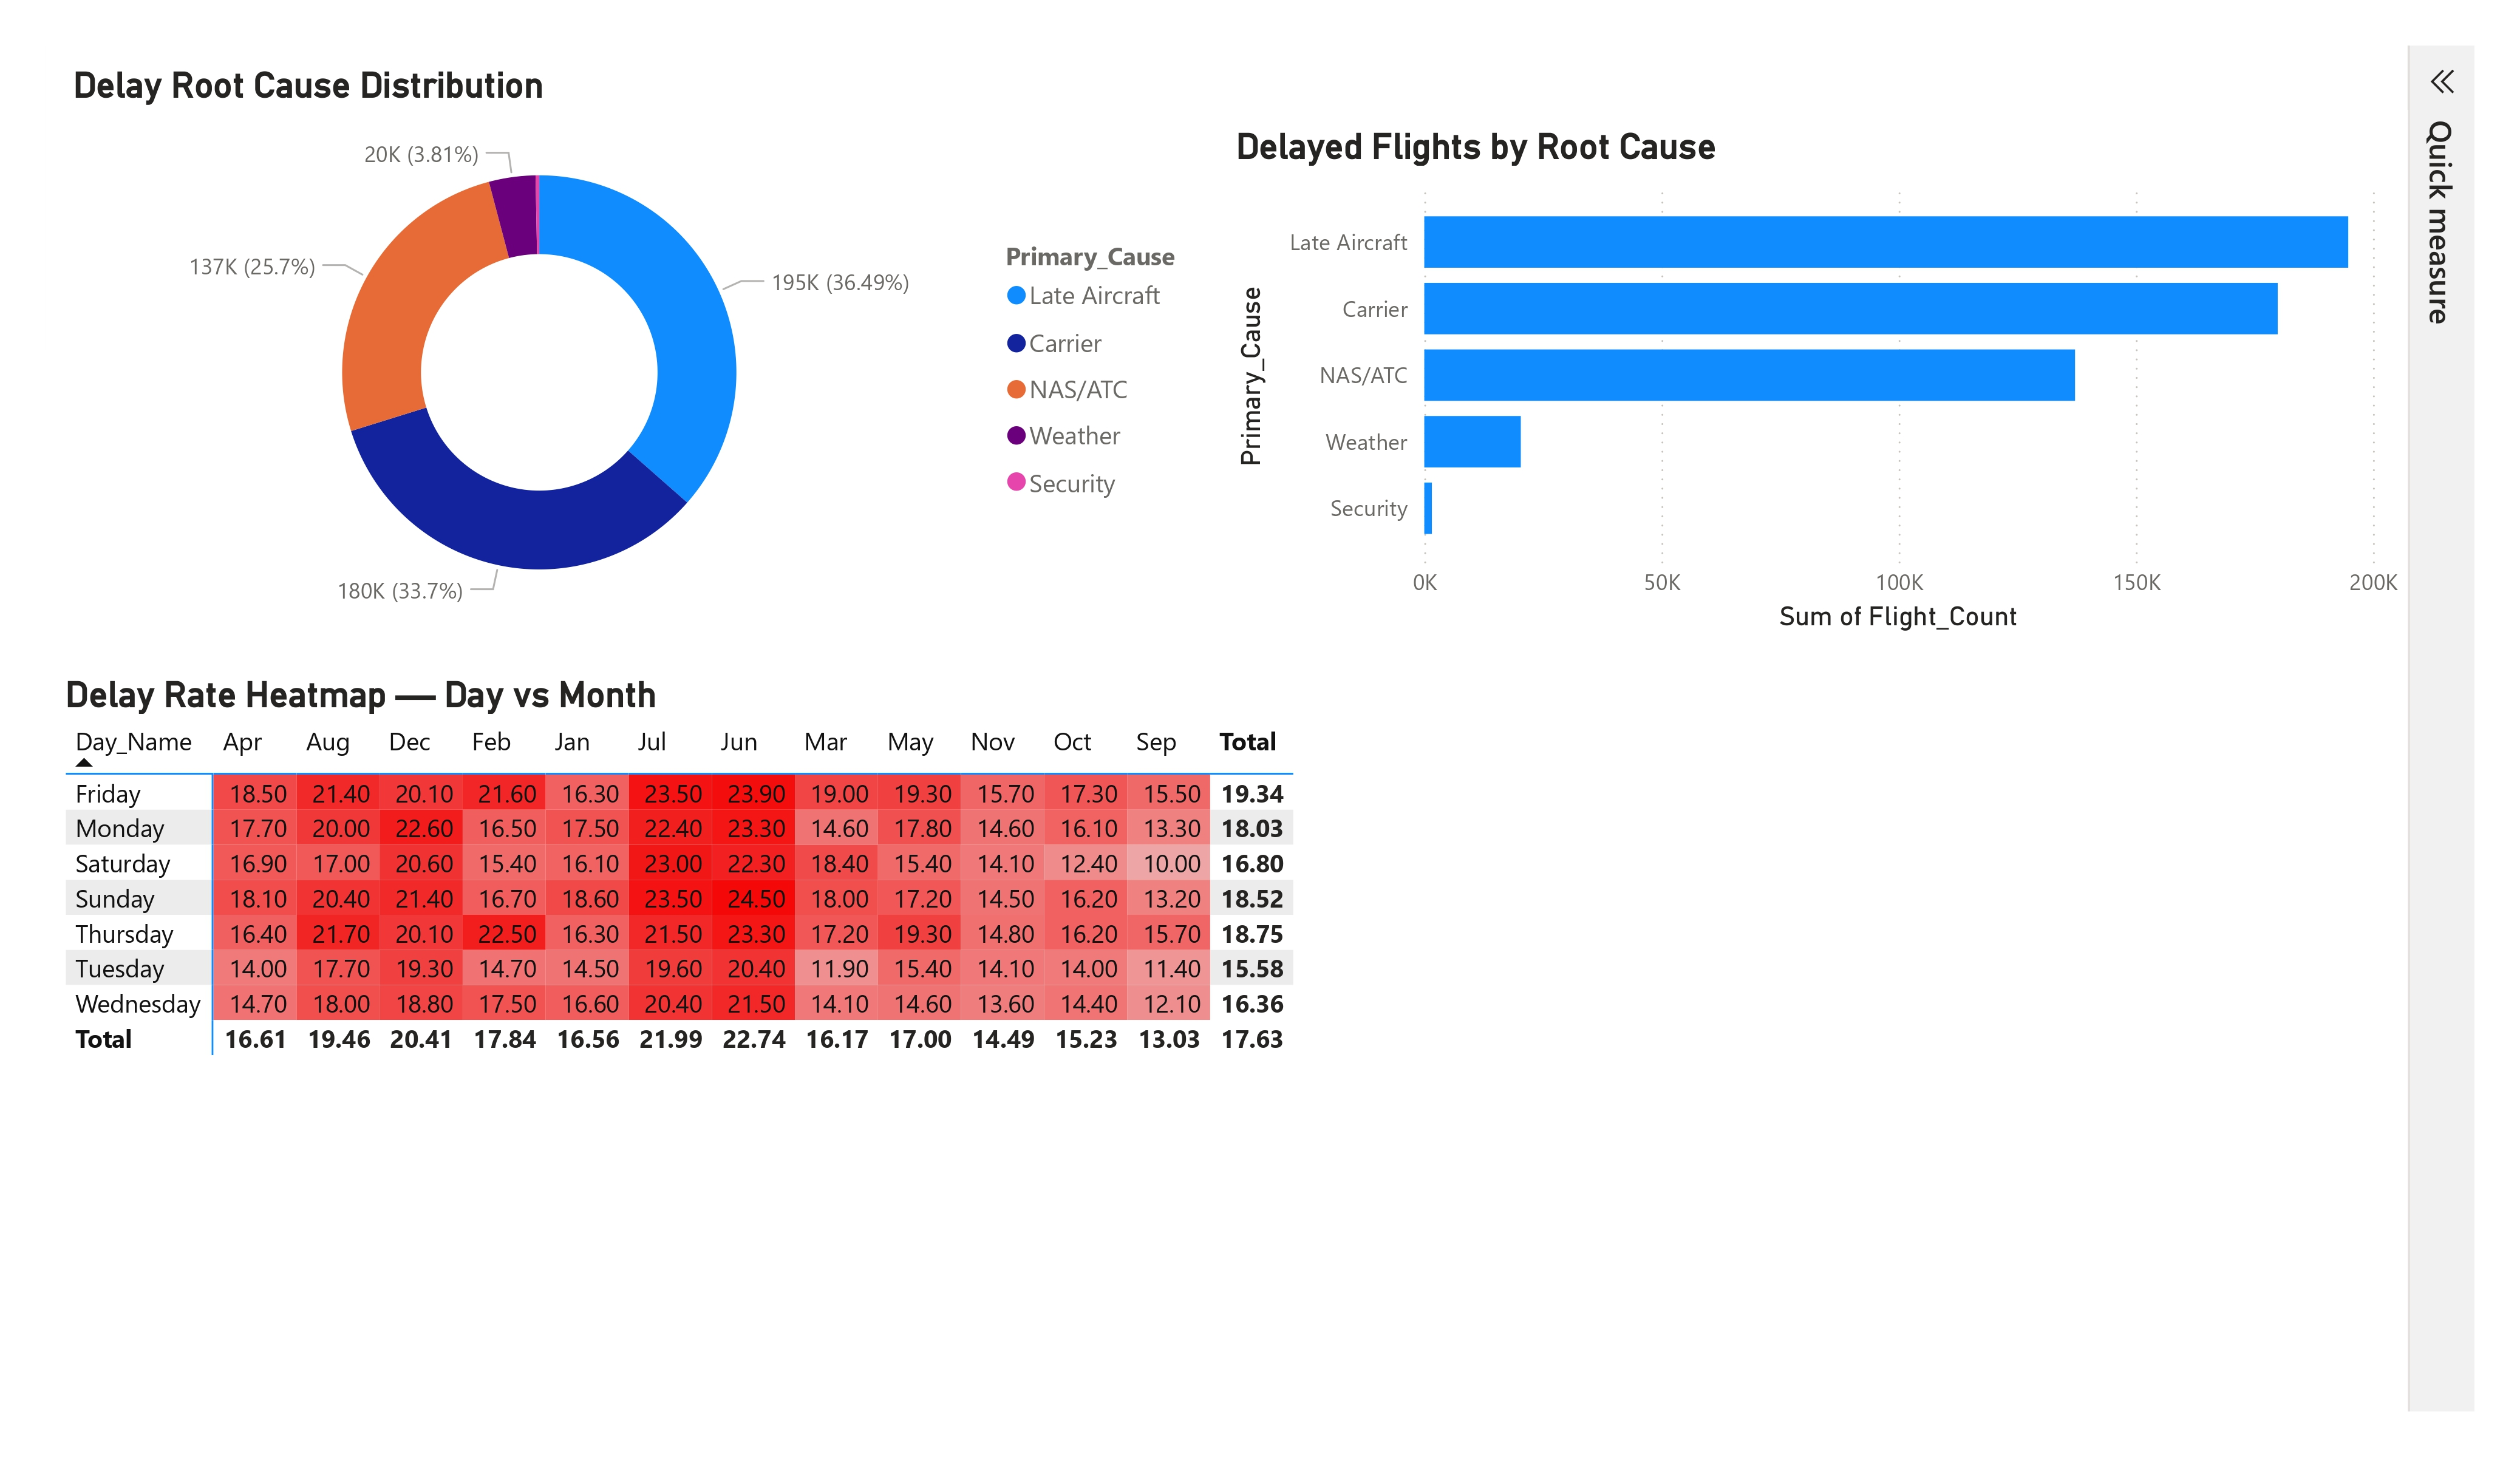

The dashboard page shown, as its layout file describes it:
{"tool":"powerbi","page":{"name":"Root Causes","canvas":[1280,720],"ordinal":2},"visuals":[{"type":"donutChart","title":"Delay Root Cause Distribution","fields":{"Y":["Sum(cause_summary.Flight_Count)"],"Category":["cause_summary.Primary_Cause"]},"box":[9.9,0,622.9,311.8],"z":0},{"type":"clusteredBarChart","title":"Delayed Flights by Root Cause","fields":{"Category":["cause_summary.Primary_Cause"],"Y":["Sum(cause_summary.Flight_Count)"]},"box":[640.2,33.4,639.6,278.4],"z":1},{"type":"pivotTable","title":"Delay Rate Heatmap — Day vs Month","fields":{"Rows":["heatmap_summary.Day_Name"],"Columns":["heatmap_summary.Month_Name"],"Values":["Avg(heatmap_summary.Delay_Rate_%)"]},"box":[5.6,330.3,687.8,389.7],"z":2}]}

Visuals, with their boxes on the page's 1280x720 design canvas (x1, y1, x2, y2). These are canvas units, not pixel positions in the 2520x1457 screenshot, which may show the page scaled, cropped or inside an application window:
"Delay Root Cause Distribution" donutChart: {"left": 10, "top": 0, "right": 633, "bottom": 312}
"Delayed Flights by Root Cause" clusteredBarChart: {"left": 640, "top": 33, "right": 1280, "bottom": 312}
"Delay Rate Heatmap — Day vs Month" pivotTable: {"left": 6, "top": 330, "right": 693, "bottom": 720}
